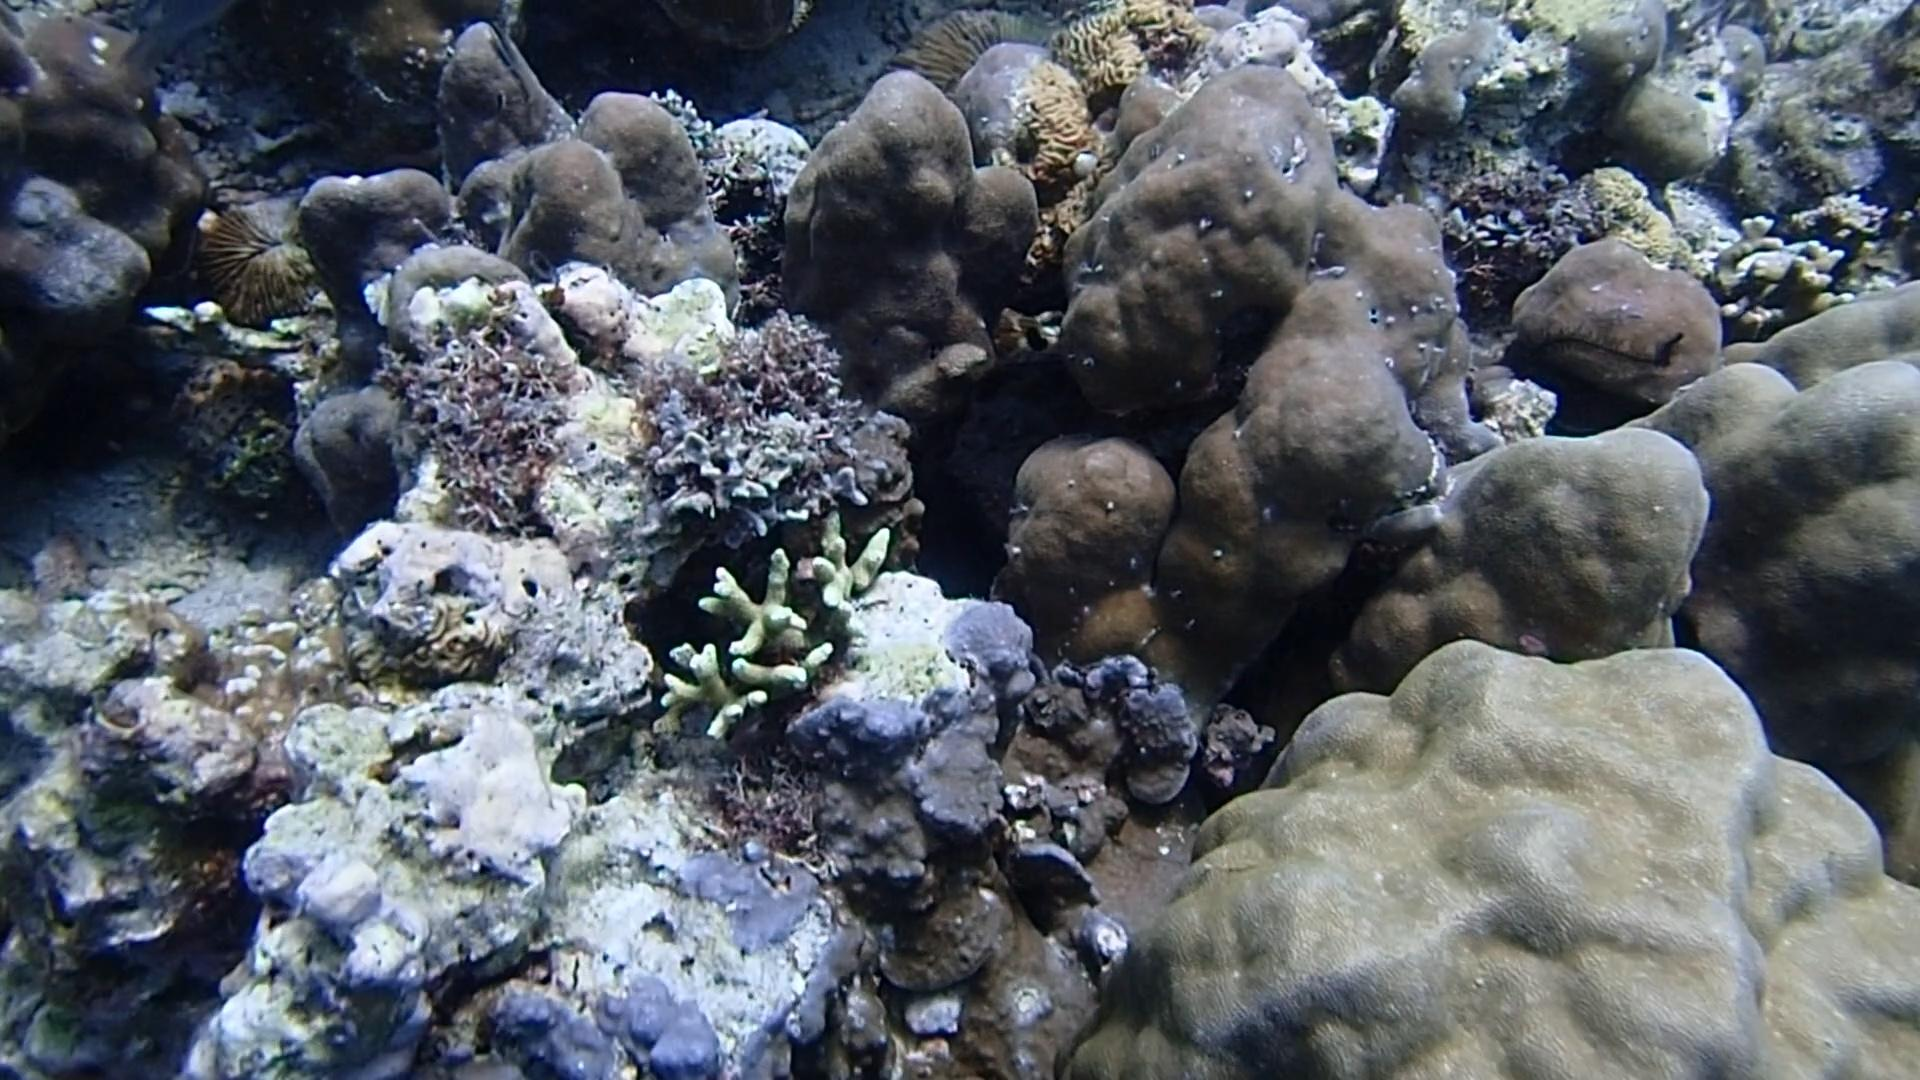Blue Fish Two: (112, 0, 235, 90)
